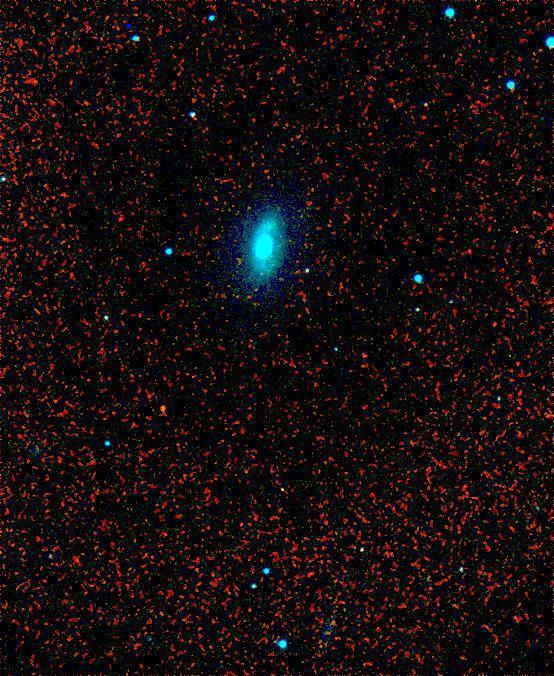star: (147, 394, 177, 424)
